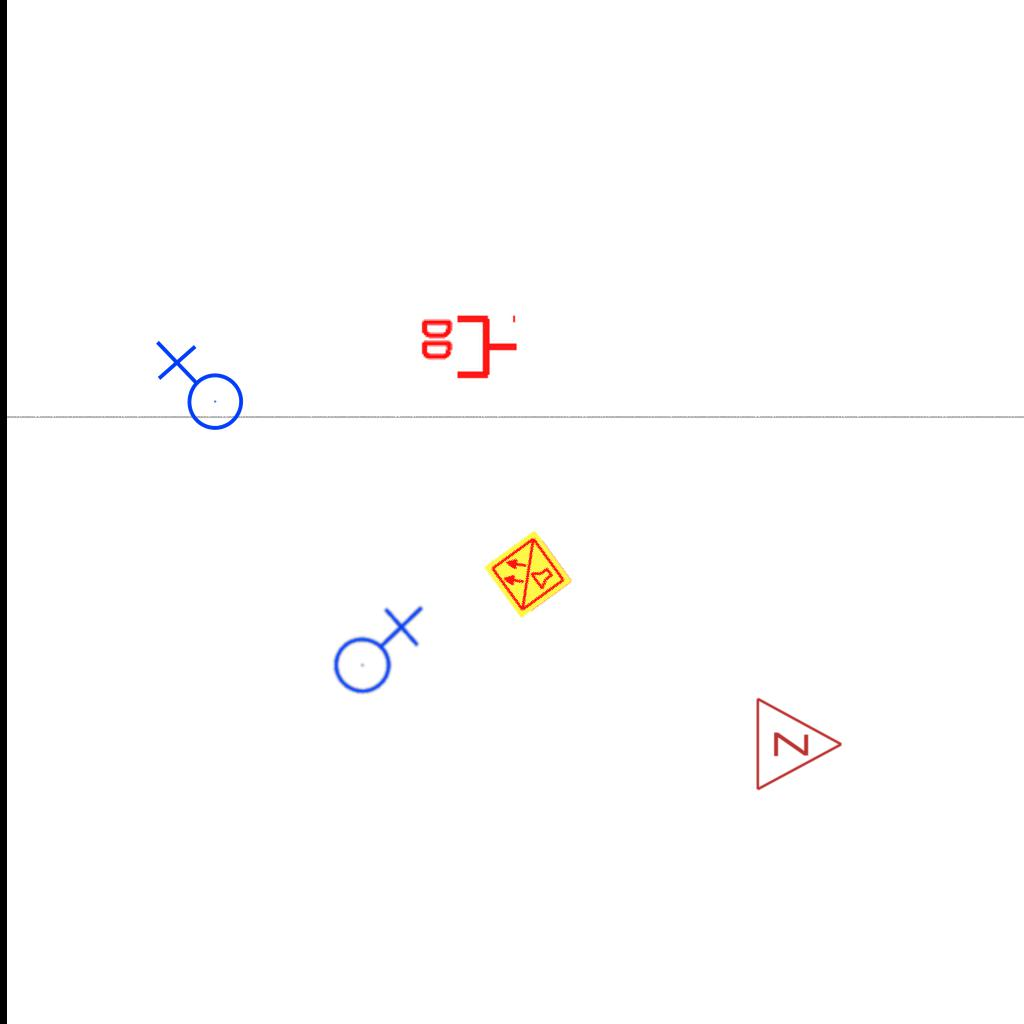Datenanschluss_zweifach: (417, 314, 520, 383)
Elektroanschluss_allgemein_230V_Geraeteanschlussdose_230V: (151, 340, 245, 439), (325, 601, 424, 695)
OKW_Multisensormelder_(Kombination_optischer_Rauch-Kahlenmonoxid_Waerme-Melder): (481, 527, 575, 621)
Zimmersignalleuchte: (749, 694, 849, 792)
